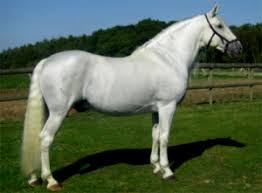horse: (22, 5, 245, 185)
